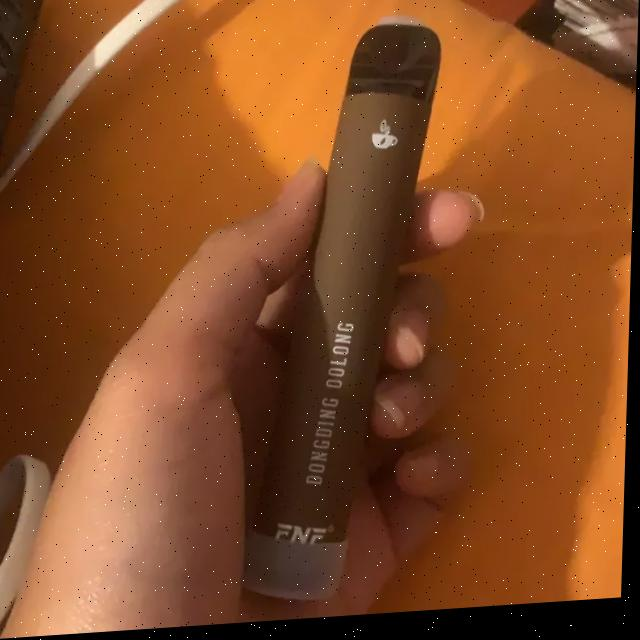vape: (245, 23, 443, 610)
